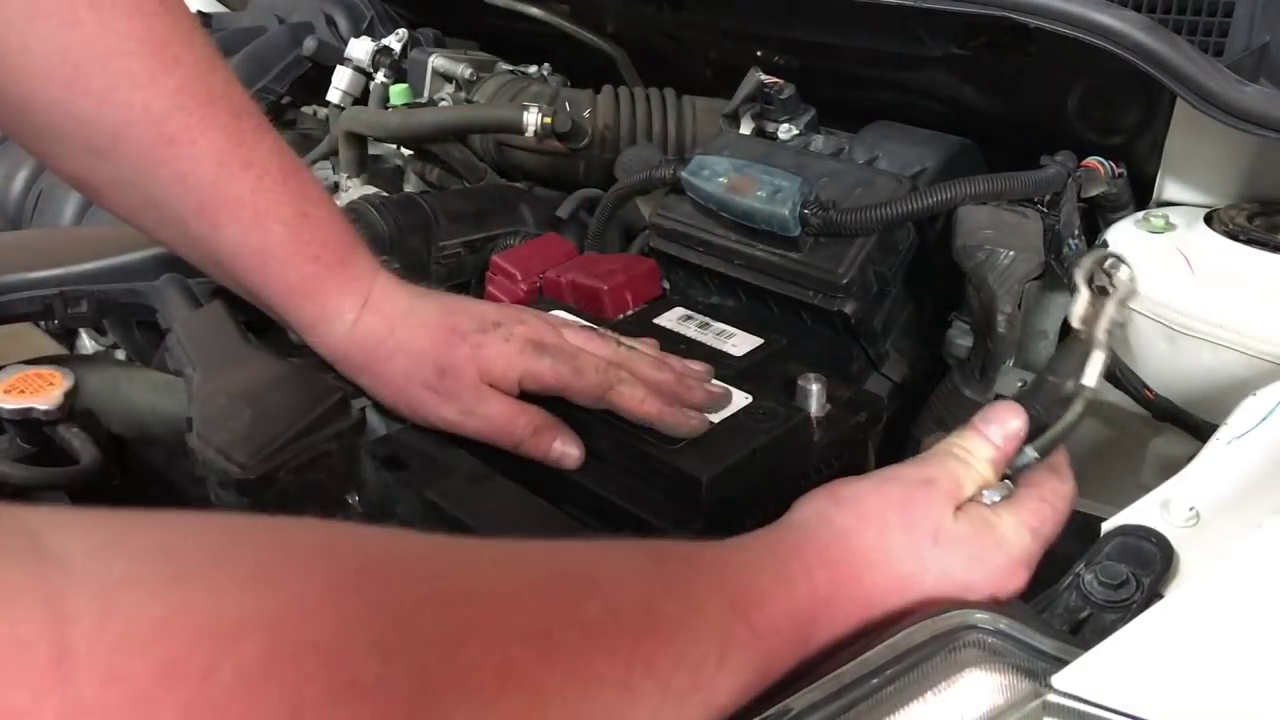battery: (467, 265, 845, 480)
neg_disconnected: (752, 346, 856, 433)
pos_connected: (467, 232, 672, 327)
pos_touched: (469, 229, 662, 387)
